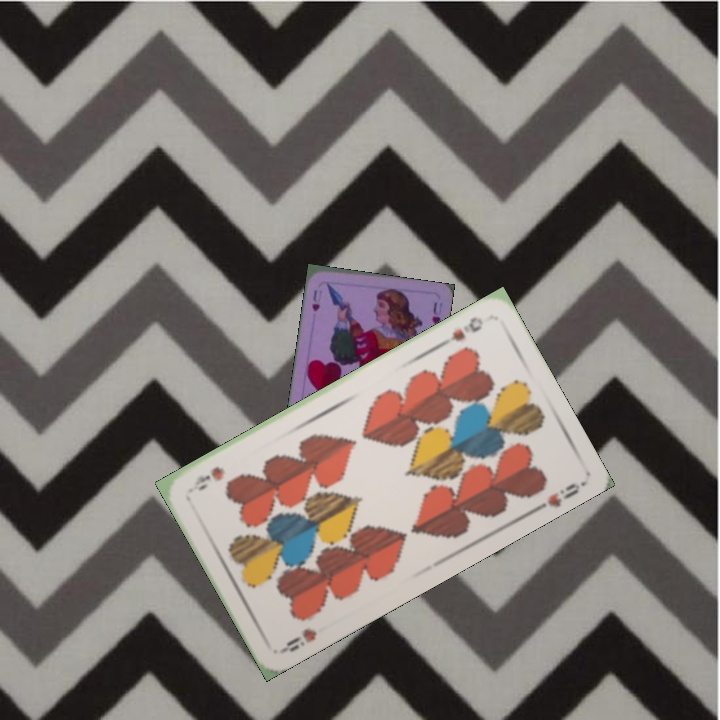H9: (437, 312, 486, 349), (278, 624, 319, 655)
HU: (308, 286, 322, 314)
